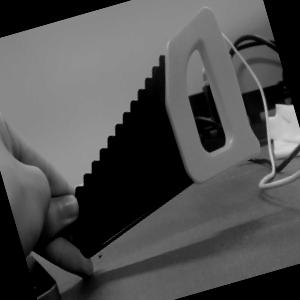serrote: (30, 9, 274, 257)
